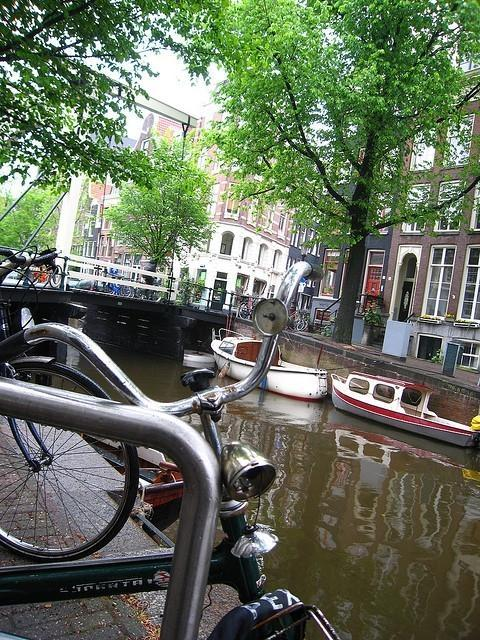bicycle: (0, 259, 340, 632), (0, 354, 136, 562), (29, 264, 64, 290), (238, 295, 253, 320), (291, 318, 305, 330)
